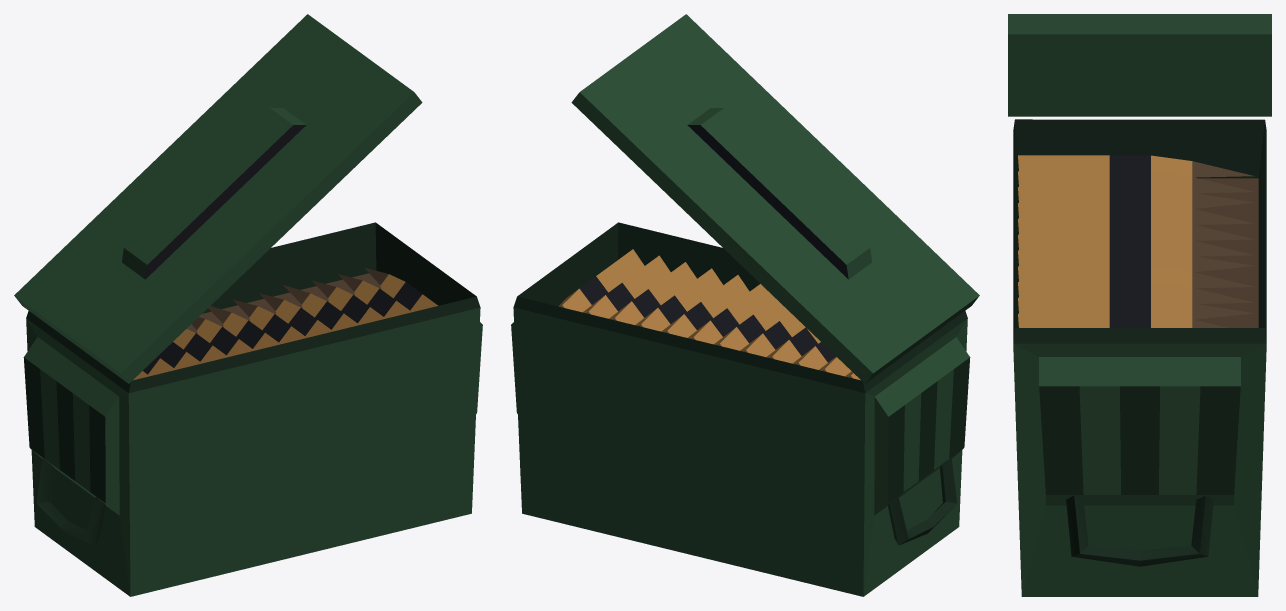
Rendered from weapons-ammo-box-bullets-open.glb.
3 renders of one model, left to right at view 1: azimuth 30°, elevation 25°; view 2: azimuth 150°, elevation 25°; view 3: azimuth 270°, elevation 25°, orthographic. The views are drawn at different scales.
Parts seen in each view (by area): view 1: ammo-box-bullets-open; view 2: ammo-box-bullets-open; view 3: ammo-box-bullets-open.
Boxes of the visible parts, bbox=[...] form: ammo-box-bullets-open: bbox=[14, 14, 482, 596]; ammo-box-bullets-open: bbox=[511, 14, 979, 596]; ammo-box-bullets-open: bbox=[1008, 14, 1271, 596].
Size of the model in its own units: 0.3162 by 0.3456 by 0.1515.
